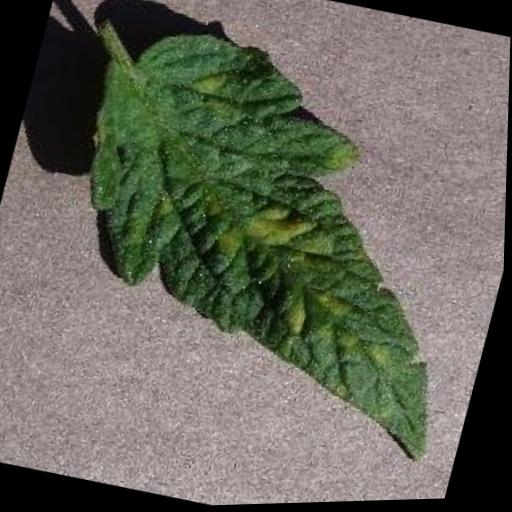Leaf Mold: (26, 8, 512, 472)
